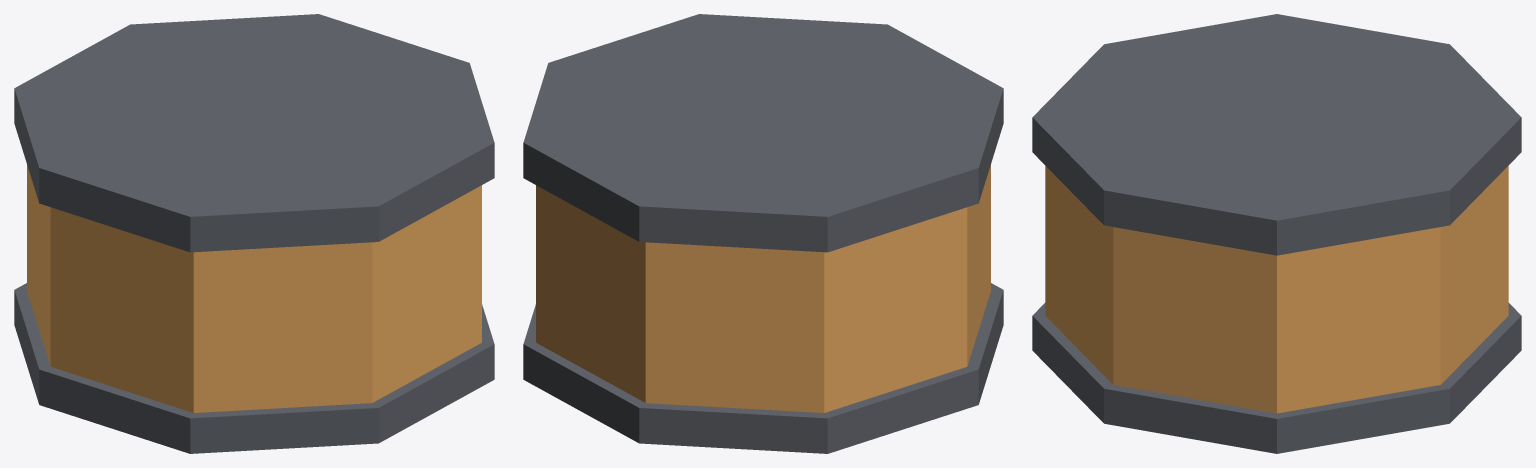
Rendered from chutepack.glb.
The picture shows the model from 3 angles, left to right: view 1: azimuth 30°, elevation 25°; view 2: azimuth 150°, elevation 25°; view 3: azimuth 270°, elevation 25°; orthographic projection.
Parts seen in each view (by area): view 1: chutepack; view 2: chutepack; view 3: chutepack.
Boxes of the visible parts, x1=… form: chutepack: x1=14, y1=14, x2=494, y2=453; chutepack: x1=523, y1=14, x2=1003, y2=453; chutepack: x1=1032, y1=14, x2=1521, y2=453.
Bounding box in the file's own units: 0.76 × 0.4 × 0.76.
